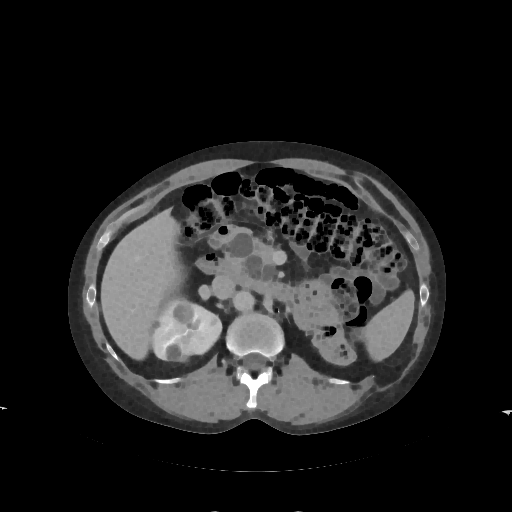Lesion: (173, 302, 196, 326)
